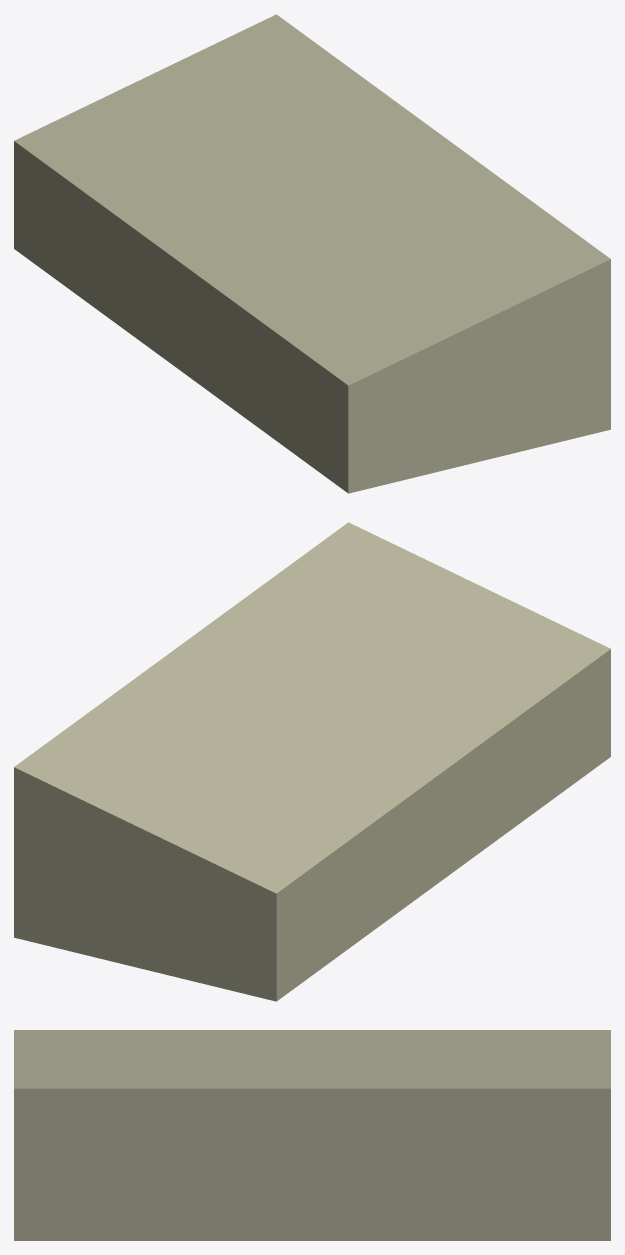
File: GEO01_FARO_THRESHOLD_SEMWRIGHT_R23.glb
3 renders of one model, top to bottom at view 1: azimuth 30°, elevation 25°; view 2: azimuth 150°, elevation 25°; view 3: azimuth 270°, elevation 25°, orthographic. The views are drawn at different scales.
Parts seen in each view (by area): view 1: SW_c242f21a199d_bridge_threshold; view 2: SW_c242f21a199d_bridge_threshold; view 3: SW_c242f21a199d_bridge_threshold.
Part boxes in pixels (bbox=[...]): SW_c242f21a199d_bridge_threshold: bbox=[14, 14, 610, 493]; SW_c242f21a199d_bridge_threshold: bbox=[14, 522, 610, 1001]; SW_c242f21a199d_bridge_threshold: bbox=[14, 1030, 610, 1240].
Size of the model in its own units: 1.45 by 0.9 by 3.2.
